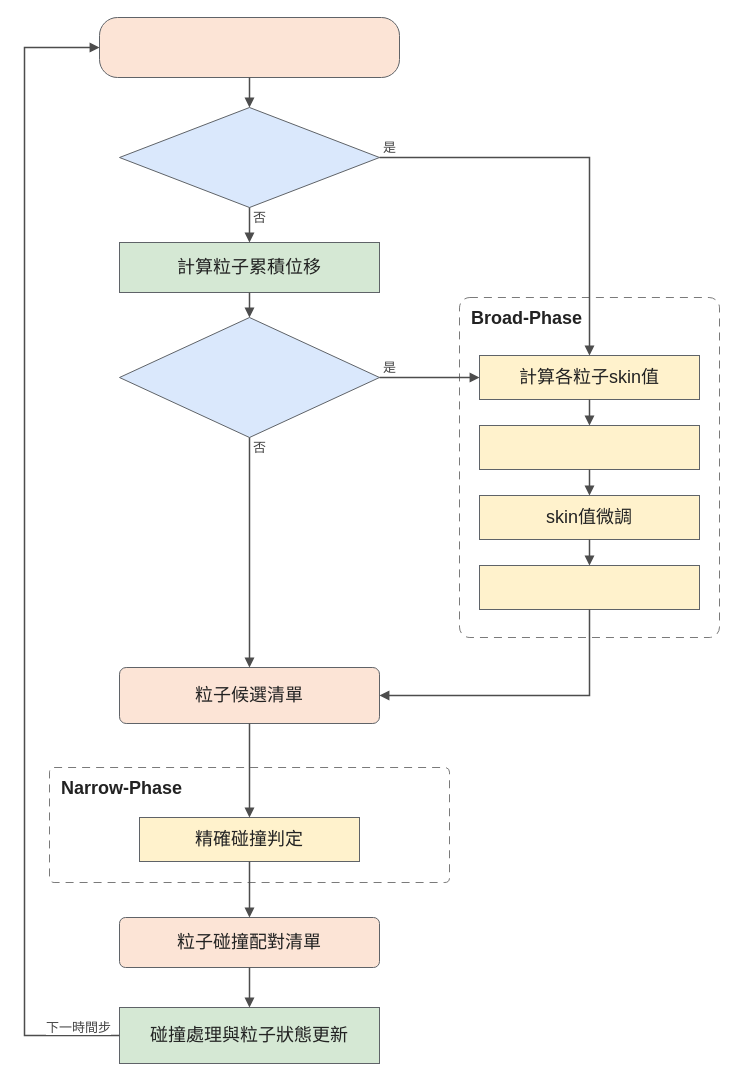
Some shapes in this 738 by 1081 pixel diagram are drawn without their labels. The shapes that lost their labels are listed below. From the top down, each one's centre as x and y in pixels, then its label:
At point 249,47: "粒子資料 （位置、速度、加速度）".
At point 249,157: "是否為 第一時間步？".
At point 249,377: "是否需重建 候選清單？".
At point 589,447: "重建空間結構".
At point 589,587: "更新粒子候選清單".
